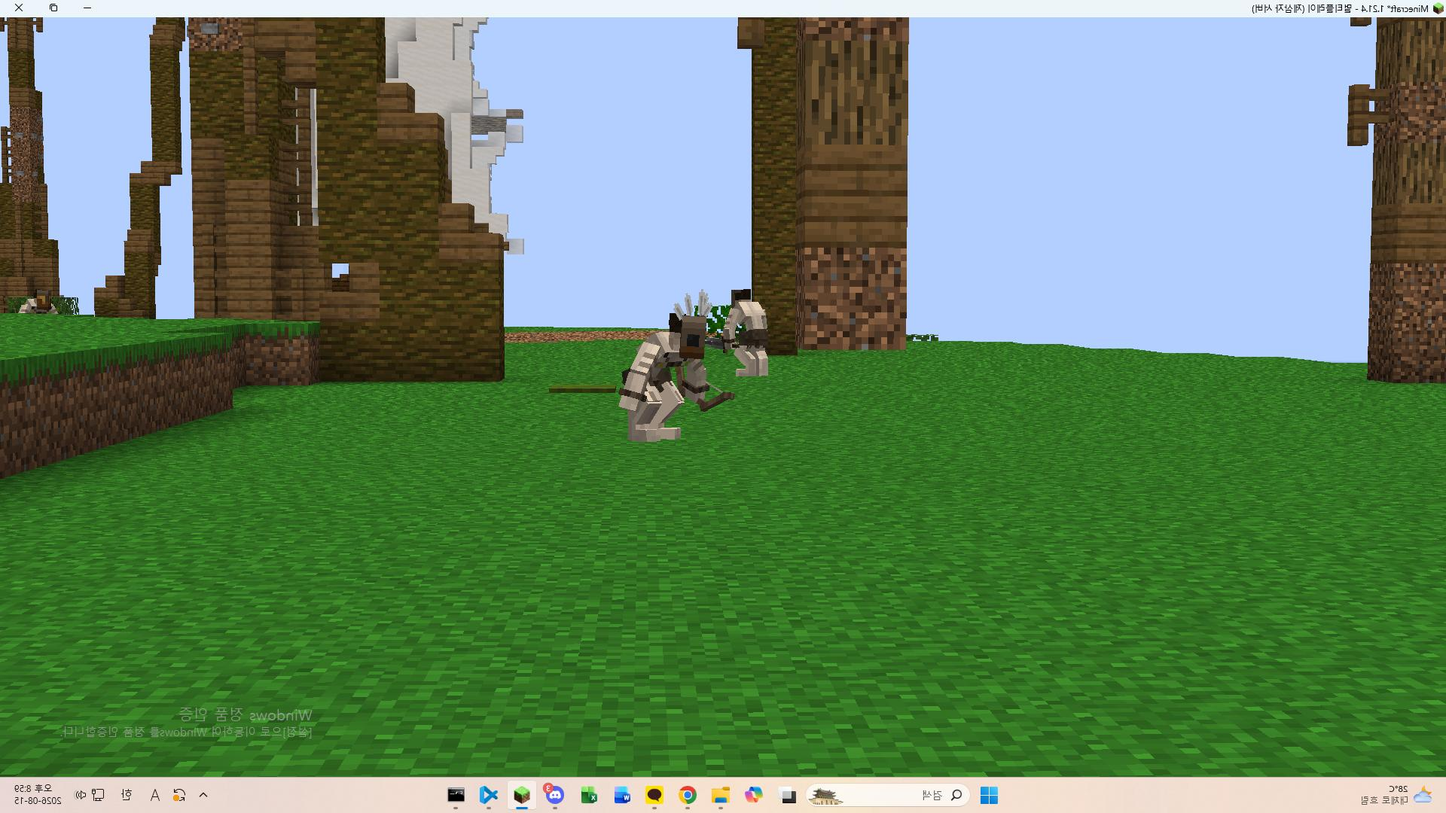bow_indian: (608, 289, 740, 447)
